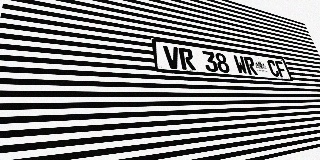plate: (151, 38, 293, 81)
